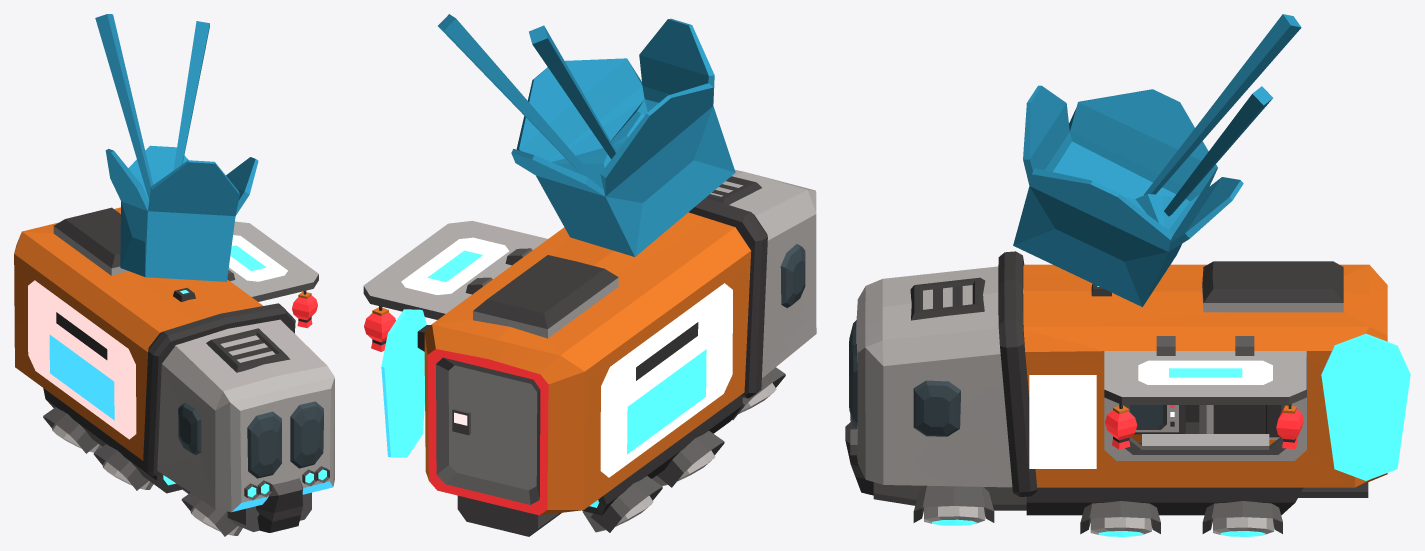
Rendered from scifi_scifi-foodtruck-open.fbx.
3 renders of one model, left to right at view 1: azimuth 30°, elevation 25°; view 2: azimuth 150°, elevation 25°; view 3: azimuth 270°, elevation 25°, orthographic. The views are drawn at different scales.
Parts seen in each view (by area): view 1: scifi_scifi_foodtruck_open; view 2: scifi_scifi_foodtruck_open; view 3: scifi_scifi_foodtruck_open.
Boxes of the visible parts, bbox=[...] form: scifi_scifi_foodtruck_open: bbox=[14, 14, 334, 536]; scifi_scifi_foodtruck_open: bbox=[363, 14, 816, 536]; scifi_scifi_foodtruck_open: bbox=[845, 14, 1410, 536].
Bounding box in the file's own units: 106 × 196 × 200.
